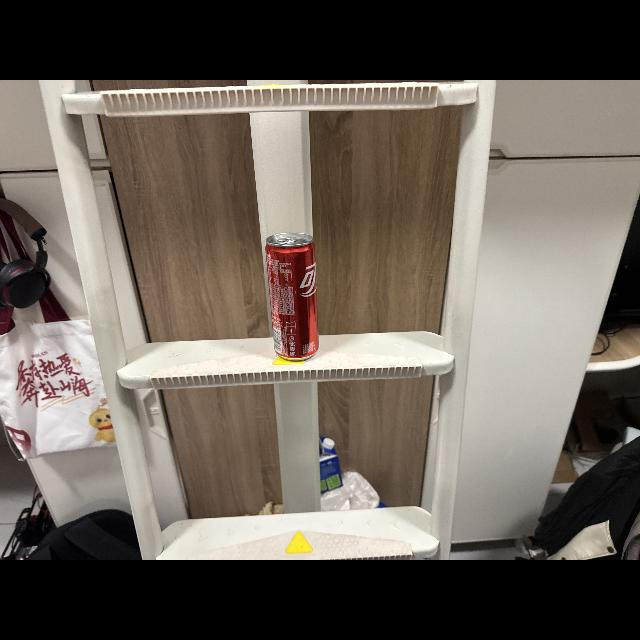Cola: (262, 229, 326, 363)
